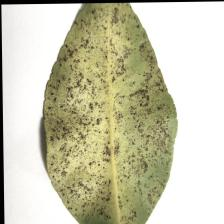canker: (41, 35, 182, 209)
